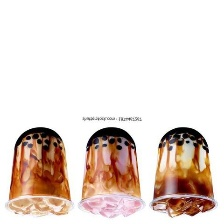glass: (1, 123, 76, 220), (147, 123, 221, 219), (75, 123, 149, 217)
